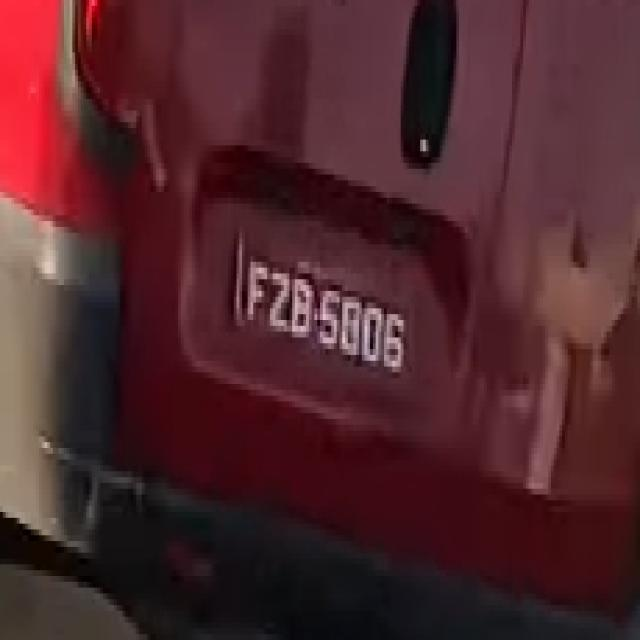Placa_mercosul_carro: (236, 230, 418, 393)
